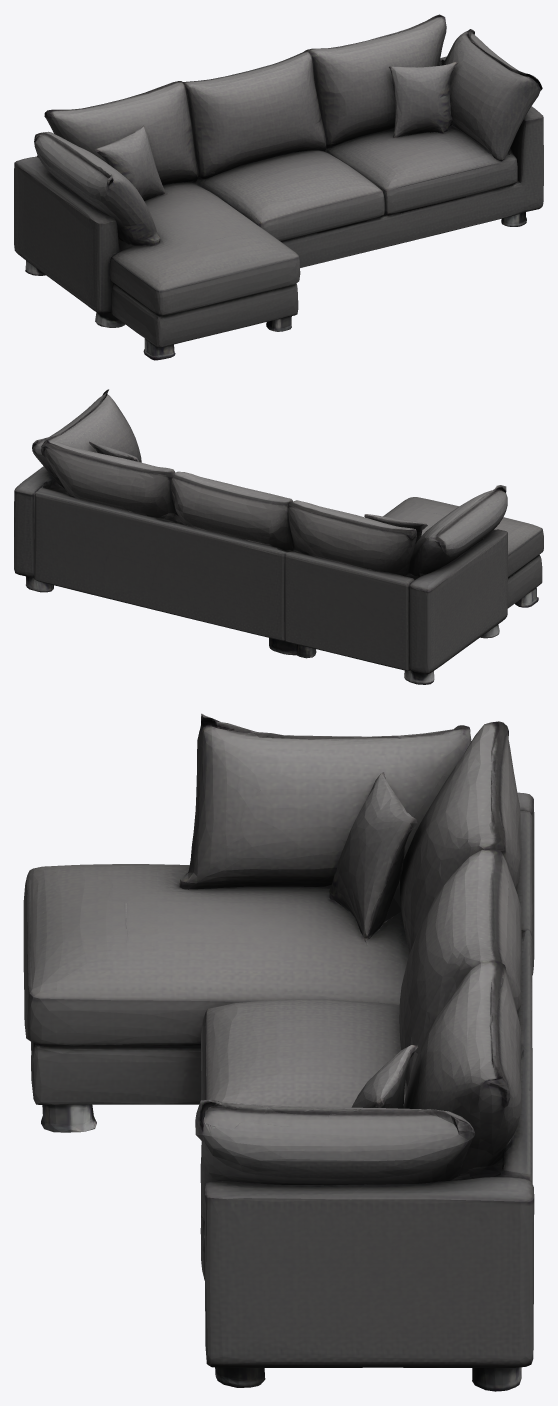
3 renders of one model, top to bottom at view 1: azimuth 30°, elevation 25°; view 2: azimuth 150°, elevation 25°; view 3: azimuth 270°, elevation 25°, orthographic. The views are drawn at different scales.
Visible parts, largest first — view 1: world; view 2: world; view 3: world.
Boxes of the visible parts, <box> form: world: <box>14,14,543,360</box>; world: <box>14,389,543,684</box>; world: <box>23,713,534,1391</box>.
Bounding box in the file's own units: 0.9969 × 0.3404 × 0.5274.
Materials: 1 (1 with a texture image).
